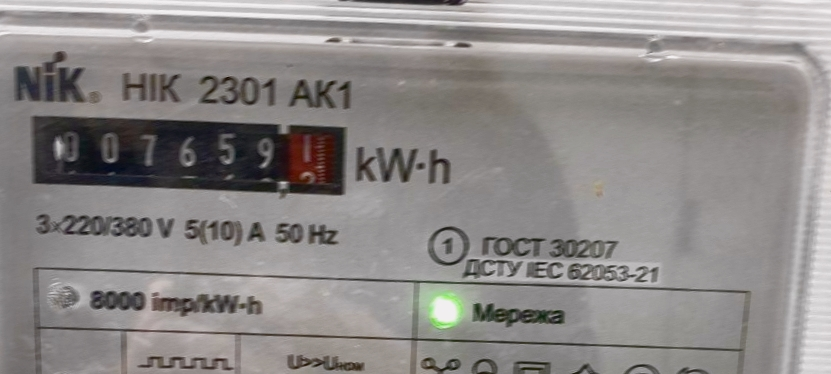0: (96, 130, 121, 169), (57, 128, 80, 168)
1: (296, 131, 314, 168)
5: (214, 131, 236, 170)
6: (174, 134, 198, 171)
7: (134, 132, 157, 171)
9: (252, 136, 275, 174)
screen: (17, 104, 356, 213)
